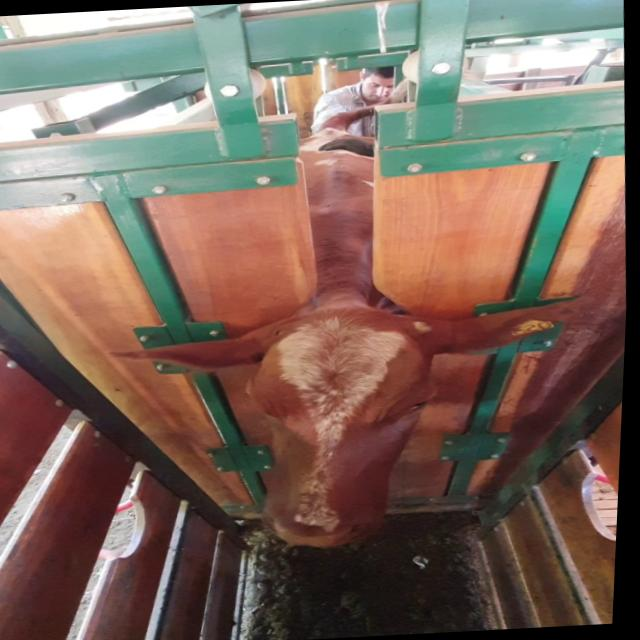cowFace: (235, 300, 451, 552)
